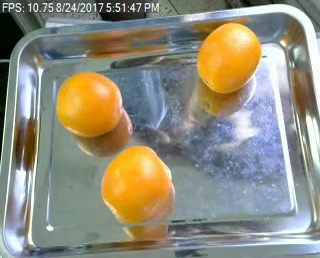Orange: (101, 143, 173, 222), (54, 72, 123, 137), (198, 22, 262, 92)
